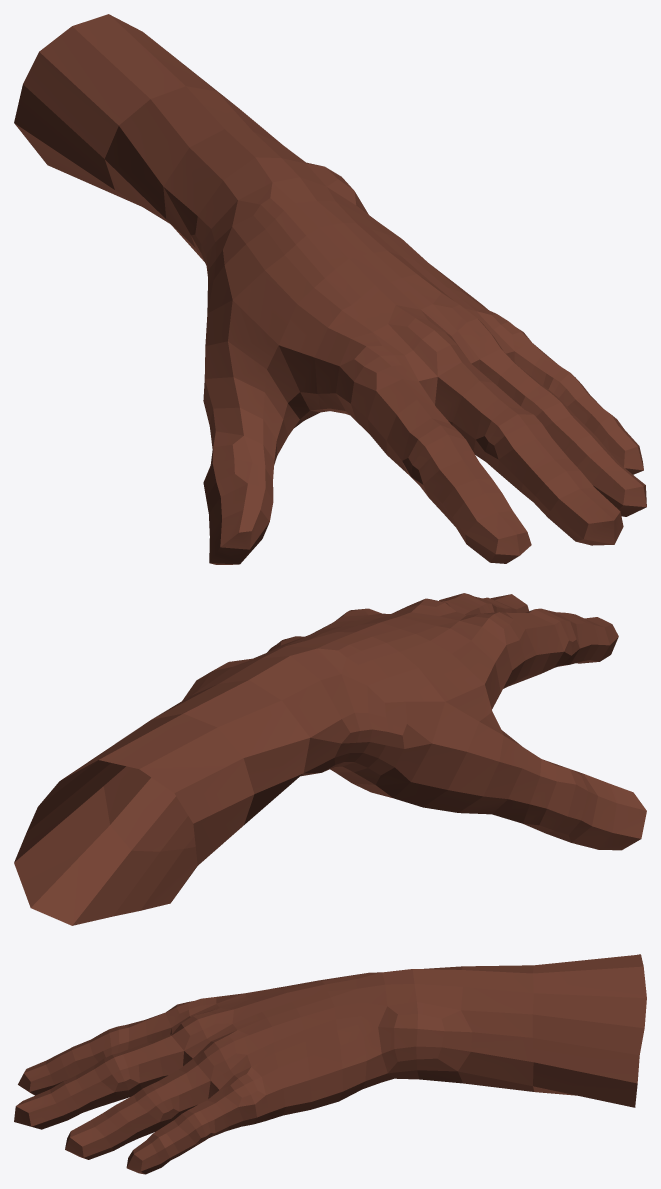
File: 2_6_HandPolygonalLeftBack.obj
The picture shows the model from 3 angles, top to bottom: view 1: azimuth 30°, elevation 25°; view 2: azimuth 150°, elevation 25°; view 3: azimuth 270°, elevation 25°; orthographic projection. The views are drawn at different scales.
Visible parts, largest first — view 1: hand_man_polySurface1.005; view 2: hand_man_polySurface1.005; view 3: hand_man_polySurface1.005.
Boxes of the visible parts, bbox=[...] form: hand_man_polySurface1.005: bbox=[14, 14, 646, 564]; hand_man_polySurface1.005: bbox=[14, 593, 646, 925]; hand_man_polySurface1.005: bbox=[14, 954, 646, 1174].
Size of the model in its own units: 0.0799 by 0.0535 by 0.1653.
